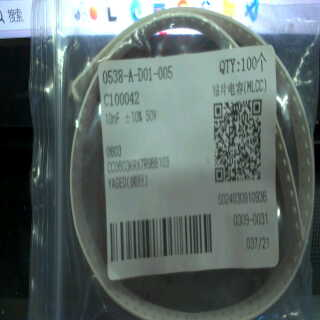10nF: (103, 109, 123, 127)
